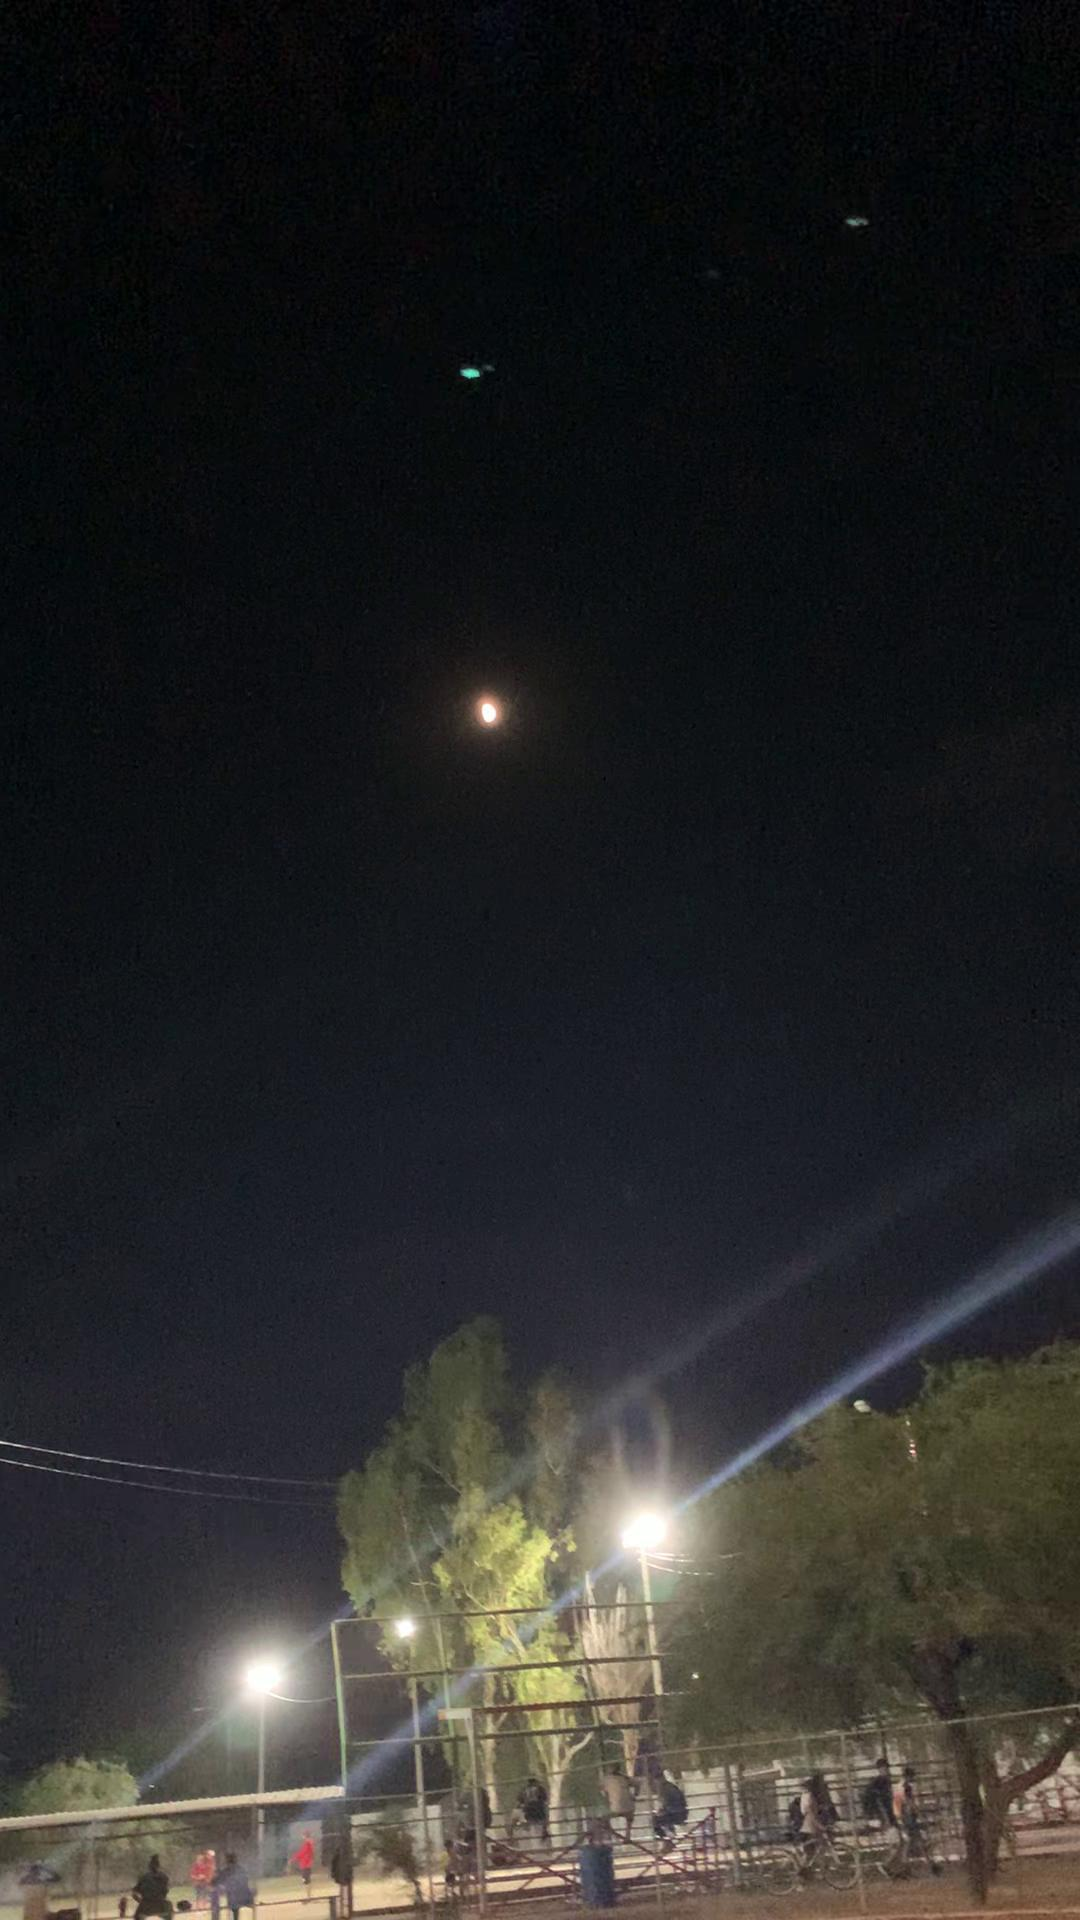moon: (455, 680, 517, 756)
